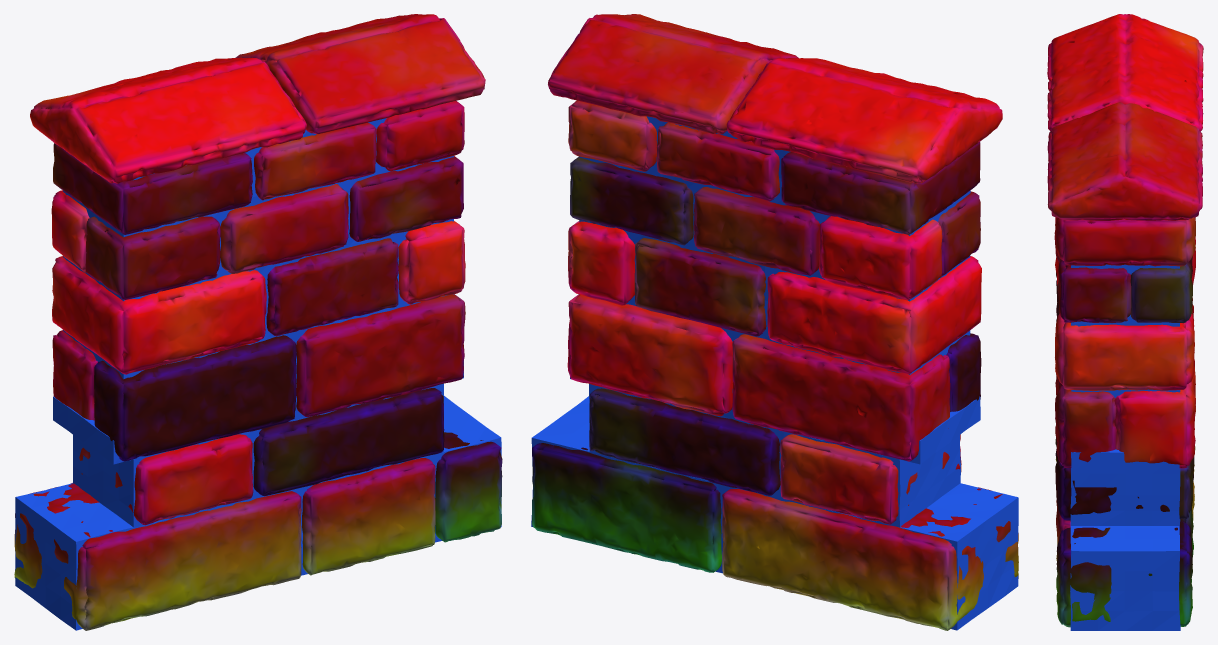
File: SM_Merlon488_A.fbx
3 renders of one model, left to right at view 1: azimuth 30°, elevation 25°; view 2: azimuth 150°, elevation 25°; view 3: azimuth 270°, elevation 25°, orthographic. The views are drawn at different scales.
Parts seen in each view (by area): view 1: SM_Merlon488_A; view 2: SM_Merlon488_A; view 3: SM_Merlon488_A.
Boxes of the visible parts, <box> form: SM_Merlon488_A: <box>14,14,502,630</box>; SM_Merlon488_A: <box>531,14,1018,630</box>; SM_Merlon488_A: <box>1047,14,1203,630</box>.
Bounding box in the file's own units: 172 × 189 × 60.28.
